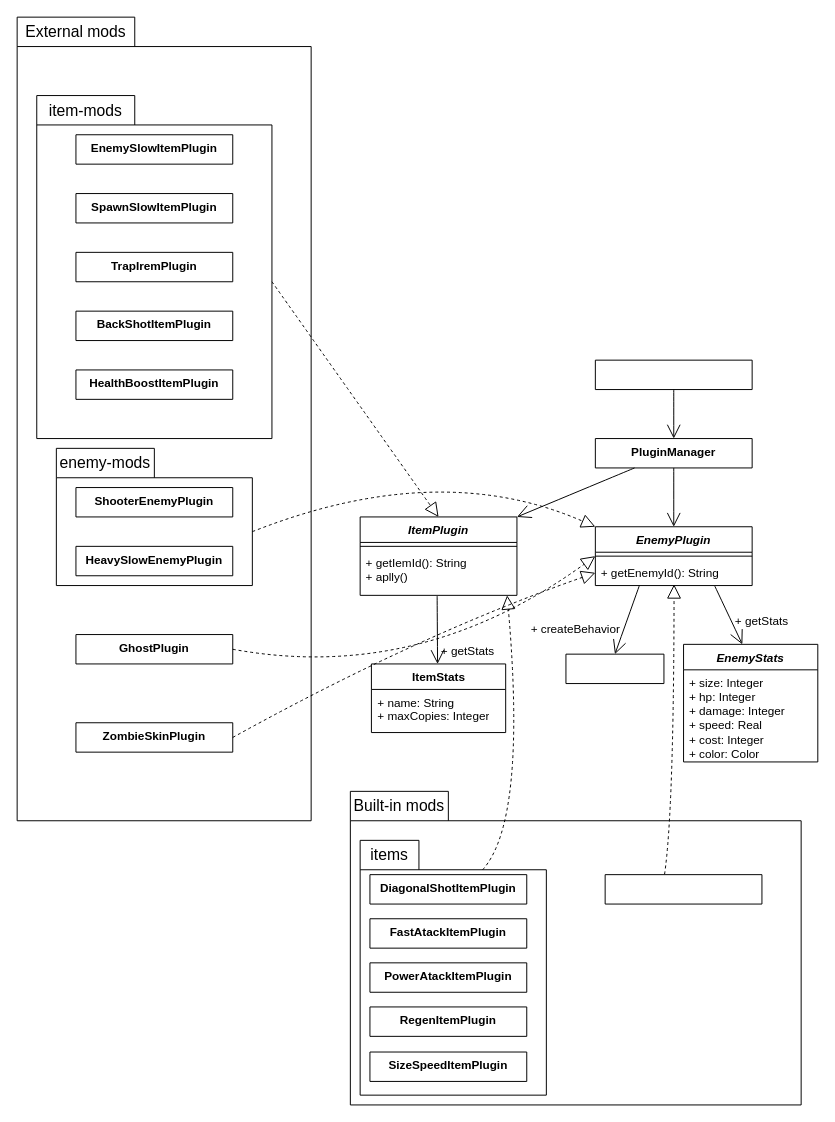
Image size: 835x1122. Some labels were removed from this diagram. Here are the shapes that lost their labels. From the top down, the centre of each, then its label:
At (673,374): "GamePanel".
At (614,668): "EnemyBehavior".
At (683,889): "BasicZombiePlugin".
